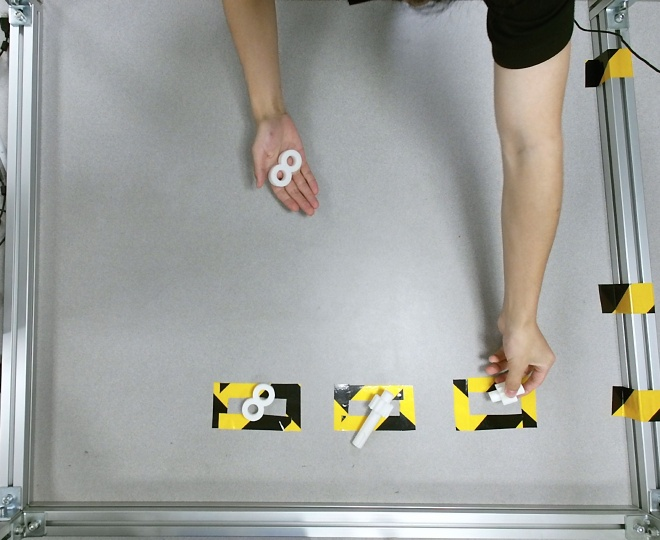stage_1: (269, 150, 301, 186)
